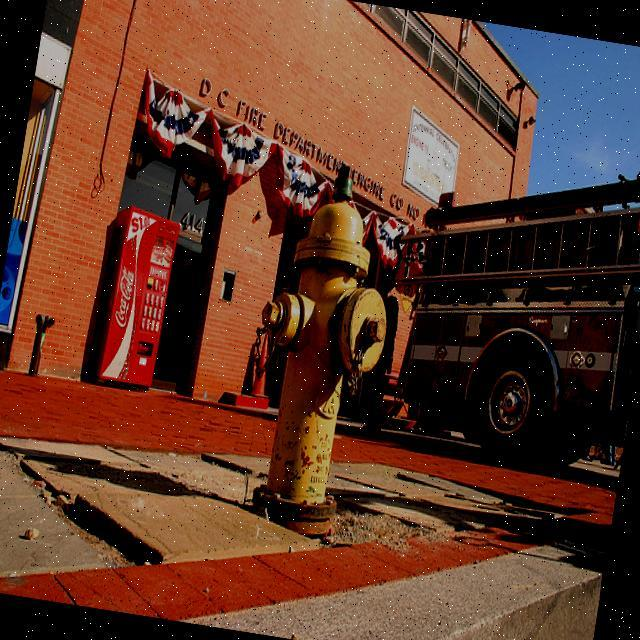fire_hydrant: (230, 156, 410, 542)
